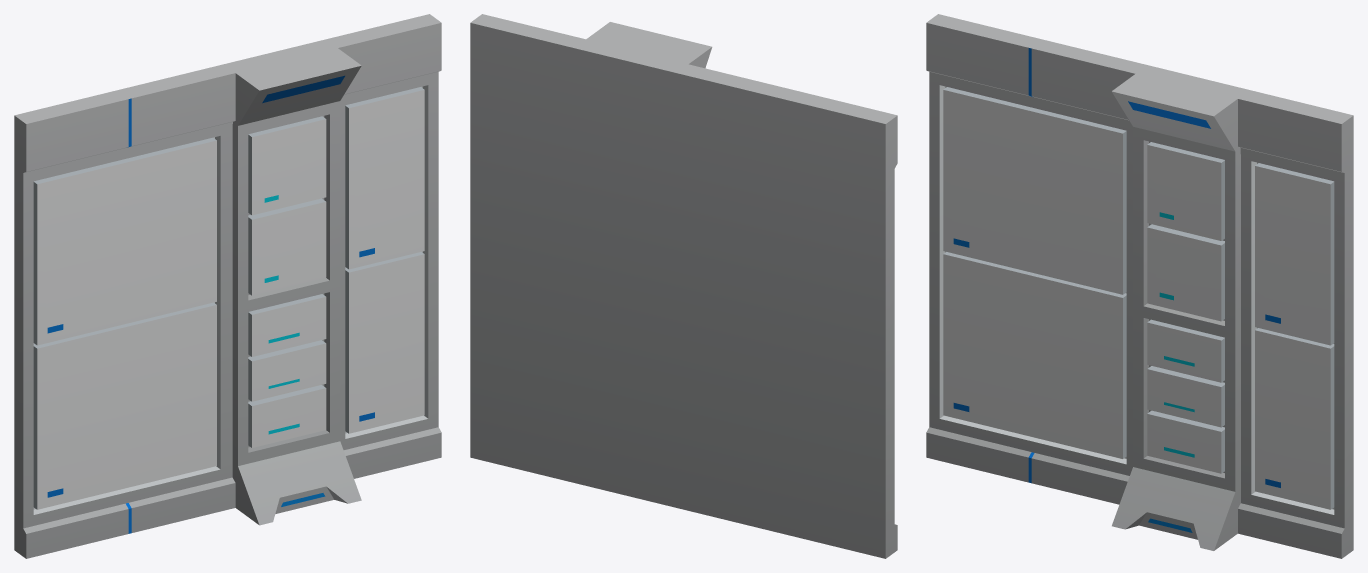
The model's file is Wall_type_A_009.fbx.
The picture shows the model from 3 angles, left to right: view 1: azimuth 30°, elevation 25°; view 2: azimuth 150°, elevation 25°; view 3: azimuth 330°, elevation 25°; orthographic projection.
Visible parts, largest first — view 1: Wall_type_A_009; view 2: Wall_type_A_009; view 3: Wall_type_A_009.
Part boxes in pixels (x1,y1,x2,y2): Wall_type_A_009: (14, 14, 441, 558); Wall_type_A_009: (470, 14, 897, 558); Wall_type_A_009: (926, 14, 1353, 558).
Bounding box in the file's own units: 400 × 60 × 400.
